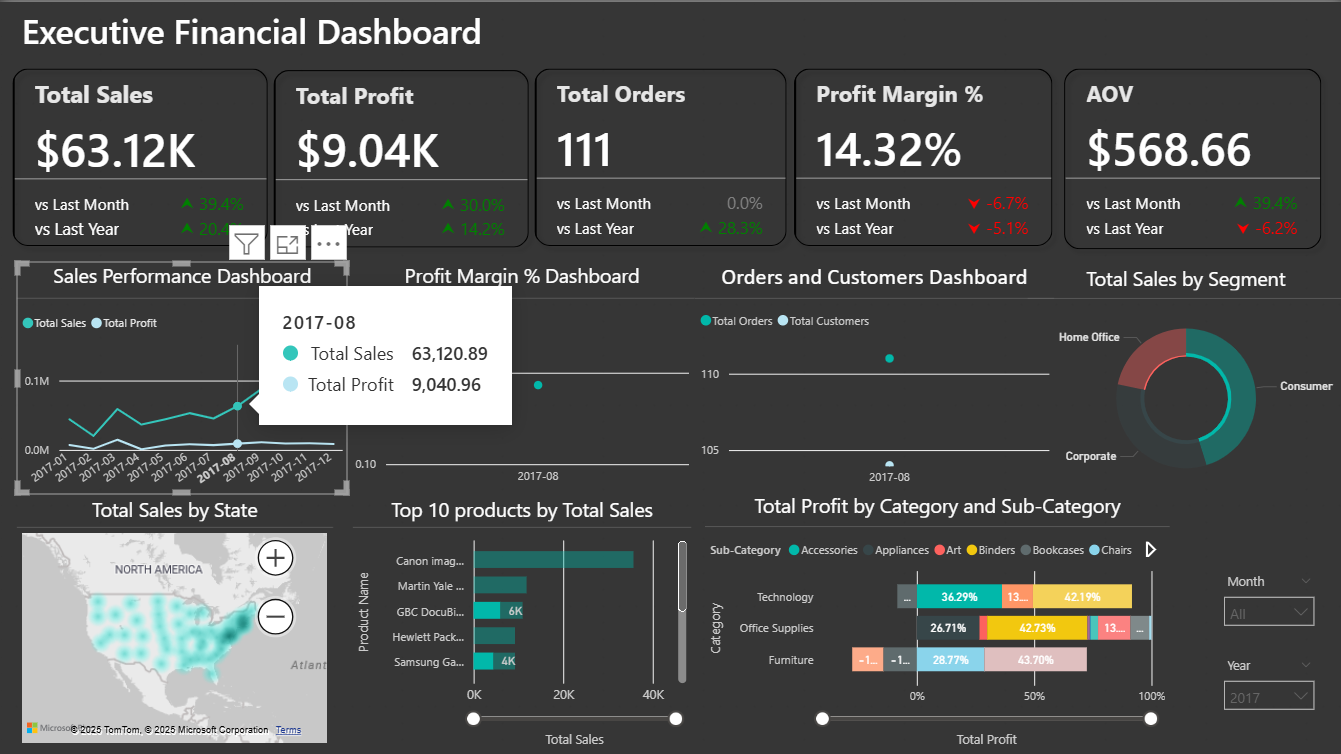

This screenshot's page, from the dashboard's own definition file:
{"tool":"powerbi","page":{"name":"Executive overview","canvas":[1280,720],"ordinal":0},"visuals":[{"type":"cardVisual","fields":{"Data":["_Measures.Total Sales"]},"box":[0,51.7,267.3,193.5],"z":0},{"type":"cardVisual","fields":{"Data":["_Measures.Total Profit"]},"box":[248,52.8,267.2,193.6],"z":1000},{"type":"cardVisual","fields":{"Data":["_Measures.Total Orders"]},"box":[497.6,51.2,264,193.6],"z":2000},{"type":"cardVisual","fields":{"Data":["_Measures.Profit Margin %"]},"box":[744,51.2,270.4,193.6],"z":3000},{"type":"cardVisual","fields":{"Data":["_Measures.AOV"]},"box":[1002,51,269,196],"z":4000},{"type":"lineChart","title":"Sales Performance Dashboard","fields":{"Category":["Date.Year-Month"],"Y":["_Measures.Total Sales","_Measures.Total Profit"]},"box":[15.7,247.1,315.7,221.4],"z":5000},{"type":"lineChart","title":"Orders and Customers Dashboard","fields":{"Category":["Date.Year-Month"],"Y":["_Measures.Total Orders","_Measures.Total Customers"]},"box":[661.4,248.6,342.9,220],"z":6000},{"type":"clusteredBarChart","title":"Top 10 products by Total Sales","fields":{"Y":["_Measures.Total Sales"],"Category":["Product_dimen.Product_Name"]},"box":[335.7,470,322.9,240],"z":7000},{"type":"slicer","fields":{"Values":["Date.Year"]},"box":[1155.7,618.3,105.7,91.7],"z":8000,"group":"g1"},{"type":"lineChart","title":"Profit Margin % Dashboard","fields":{"Category":["Date.Year-Month"],"Y":["_Measures.Profit Margin %"]},"box":[332.9,247.1,328.6,220],"z":8000},{"type":"map","fields":{"Category":["Sales.State"],"Size":["_Measures.Total Sales"]},"box":[15.7,470,301.4,240],"z":9000},{"type":"slicer","fields":{"Values":["Date.Month Number"]},"box":[1155.7,538.6,105.7,75.6],"z":10000,"group":"g1"},{"type":"hundredPercentStackedBarChart","fields":{"Category":["Product_dimen.Category"],"Series":["Product_dimen.Sub-Category"],"Y":["_Measures.Total Profit"]},"box":[671.4,458.6,442.9,251.4],"z":10000},{"type":"donutChart","fields":{"Category":["Customer_dimen.Segment"],"Y":["_Measures.Total Sales"]},"box":[978.6,250,301.4,220],"z":11000},{"type":"group","id":"g1","title":"Group 1","box":[1155.7,538.6,105.7,171.4],"z":12000},{"type":"textbox","box":[15.7,0,558.6,71.4],"z":13000}]}

Visuals, with their boxes on the page's 1280x720 design canvas (x1, y1, x2, y2). These are canvas units, not pixel positions in the 1341x754 screenshot, which may show the page scaled, cropped or inside an application window:
cardVisual - _Measures.Total Sales: {"left": 0, "top": 52, "right": 267, "bottom": 245}
cardVisual - _Measures.Total Profit: {"left": 248, "top": 53, "right": 515, "bottom": 246}
cardVisual - _Measures.Total Orders: {"left": 498, "top": 51, "right": 762, "bottom": 245}
cardVisual - _Measures.Profit Margin %: {"left": 744, "top": 51, "right": 1014, "bottom": 245}
cardVisual - _Measures.AOV: {"left": 1002, "top": 51, "right": 1271, "bottom": 247}
"Sales Performance Dashboard" lineChart: {"left": 16, "top": 247, "right": 331, "bottom": 468}
"Orders and Customers Dashboard" lineChart: {"left": 661, "top": 249, "right": 1004, "bottom": 469}
"Top 10 products by Total Sales" clusteredBarChart: {"left": 336, "top": 470, "right": 659, "bottom": 710}
slicer - Date.Year: {"left": 1156, "top": 618, "right": 1261, "bottom": 710}
"Profit Margin % Dashboard" lineChart: {"left": 333, "top": 247, "right": 662, "bottom": 467}
map - Sales.State x _Measures.Total Sales: {"left": 16, "top": 470, "right": 317, "bottom": 710}
slicer - Date.Month Number: {"left": 1156, "top": 539, "right": 1261, "bottom": 614}
hundredPercentStackedBarChart - Product_dimen.Category x Product_dimen.Sub-Category: {"left": 671, "top": 459, "right": 1114, "bottom": 710}
donutChart - Customer_dimen.Segment x _Measures.Total Sales: {"left": 979, "top": 250, "right": 1280, "bottom": 470}
"Group 1" group: {"left": 1156, "top": 539, "right": 1261, "bottom": 710}
textbox: {"left": 16, "top": 0, "right": 574, "bottom": 71}
